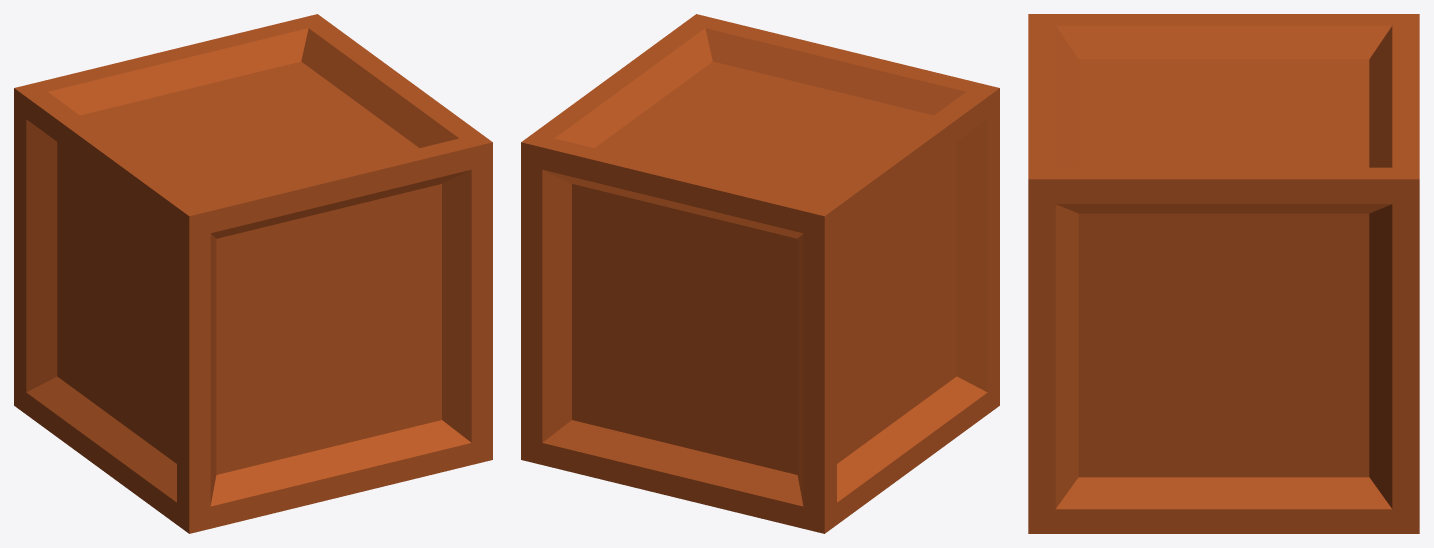
File: alexc_crate.fbx
The picture shows the model from 3 angles, left to right: view 1: azimuth 30°, elevation 25°; view 2: azimuth 150°, elevation 25°; view 3: azimuth 270°, elevation 25°; orthographic projection. The views are drawn at different scales.
Parts seen in each view (by area): view 1: crate_a; view 2: crate_a; view 3: crate_a.
Part boxes in pixels (x1,y1,x2,y2): crate_a: (14,14,492,533); crate_a: (521,14,999,533); crate_a: (1028,14,1419,533).
Size of the model in its own units: 200 by 200 by 200.
